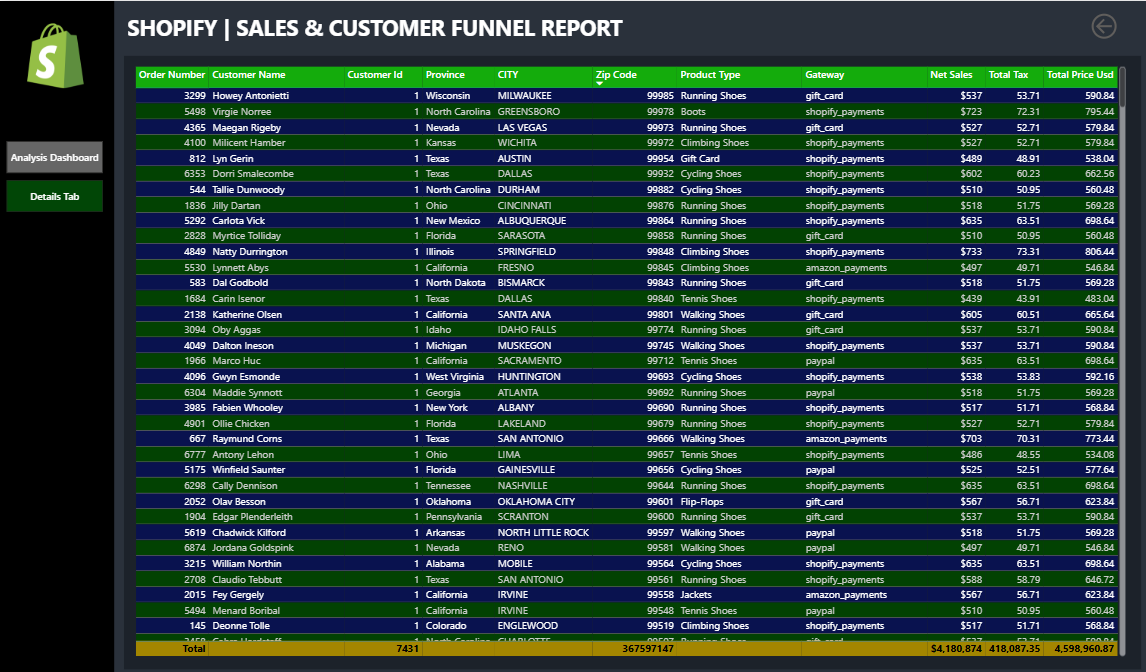

The dashboard page shown, as its layout file describes it:
{"tool":"powerbi","page":{"name":"Details Tab","canvas":[1700,1000],"ordinal":1},"visuals":[{"type":"shape","box":[0,0,170,999.1],"z":0},{"type":"textbox","box":[184.4,13.2,782.7,67.7],"z":1000},{"type":"shape","box":[184.2,80.9,1501.1,905.5],"z":2000},{"type":"image","box":[32.7,27.5,103.3,105],"z":3000},{"type":"tableEx","fields":{"Values":["shopify_sales.Order Number","shopify_sales.Customer Name","shopify_sales.Customer Id","shopify_sales.Billing Address Province","shopify_sales.CITY","shopify_sales.Billing Address Zip","shopify_sales.Product Type","shopify_sales.Gateway","shopify_sales.Net Sales","shopify_sales.Total Tax","shopify_sales.Total Price Usd"]},"box":[196.3,93,1471.9,879.7],"z":4000},{"type":"actionButton","box":[1606.2,13.8,62,48.2],"z":5000},{"type":"pageNavigator","box":[11.3,207,143,105.4],"z":5001}]}

Visuals, with their boxes on the page's 1700x1000 design canvas (x1, y1, x2, y2). These are canvas units, not pixel positions in the 1146x672 screenshot, which may show the page scaled, cropped or inside an application window:
shape: bbox=[0, 0, 170, 999]
textbox: bbox=[184, 13, 967, 81]
shape: bbox=[184, 81, 1685, 986]
image: bbox=[33, 28, 136, 132]
tableEx - shopify_sales.Order Number x shopify_sales.Customer Name: bbox=[196, 93, 1668, 973]
actionButton: bbox=[1606, 14, 1668, 62]
pageNavigator: bbox=[11, 207, 154, 312]
